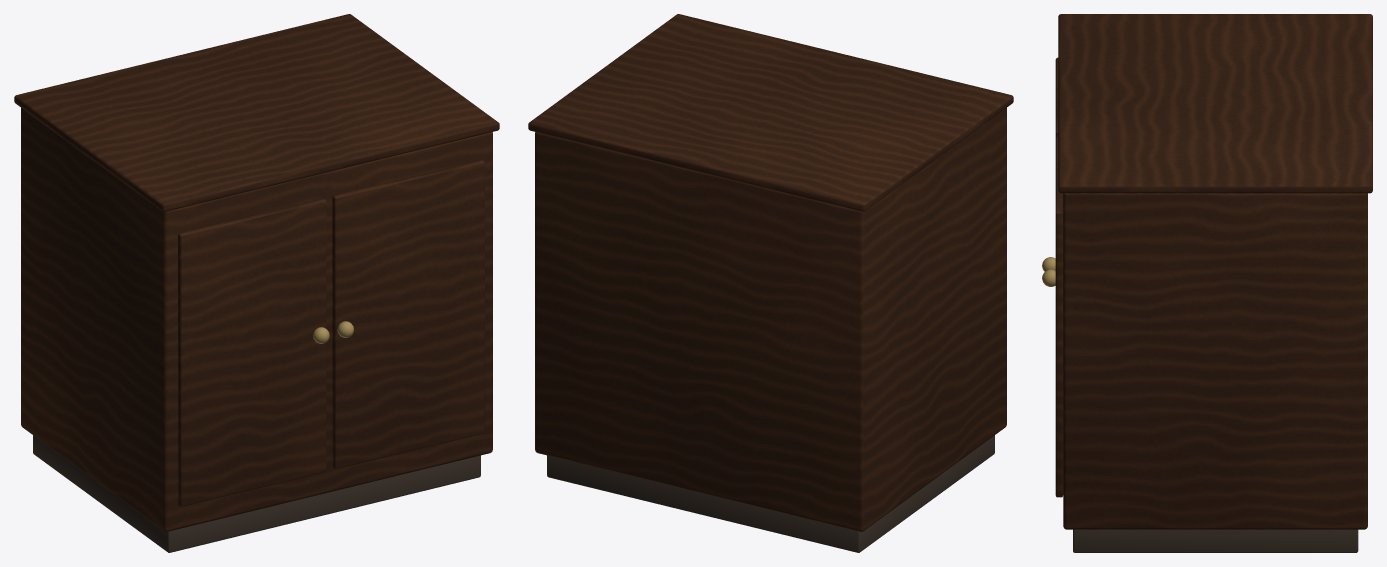
File: cartridge-table.glb
The picture shows the model from 3 angles, left to right: view 1: azimuth 30°, elevation 25°; view 2: azimuth 150°, elevation 25°; view 3: azimuth 270°, elevation 25°; orthographic projection. The views are drawn at different scales.
Visible parts, largest first — view 1: body, top, door.001, door, plinth; view 2: body, top, plinth; view 3: body, top, plinth, door.001.
Boxes of the visible parts, box(x1,y1,x2,y2) form: body: box(21, 108, 492, 531); top: box(14, 14, 499, 211); door.001: box(332, 159, 484, 469); door: box(178, 198, 326, 506); plinth: box(33, 435, 480, 552); body: box(535, 108, 1006, 531); top: box(528, 14, 1013, 211); plinth: box(547, 435, 994, 552); body: box(1063, 193, 1367, 529); top: box(1058, 14, 1372, 193); plinth: box(1073, 529, 1358, 552); door.001: box(1055, 136, 1063, 497).
Size of the model in its own units: 0.83 by 0.84 by 0.673.
3 materials, 1 textured.
